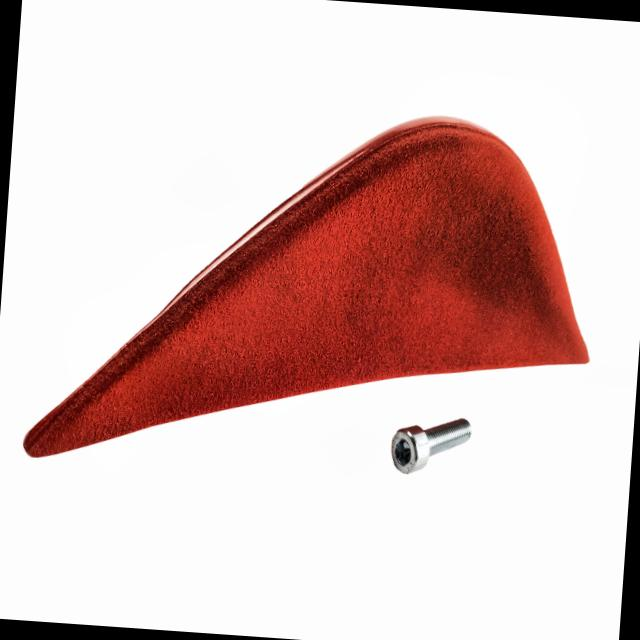Hold: (11, 112, 597, 469)
